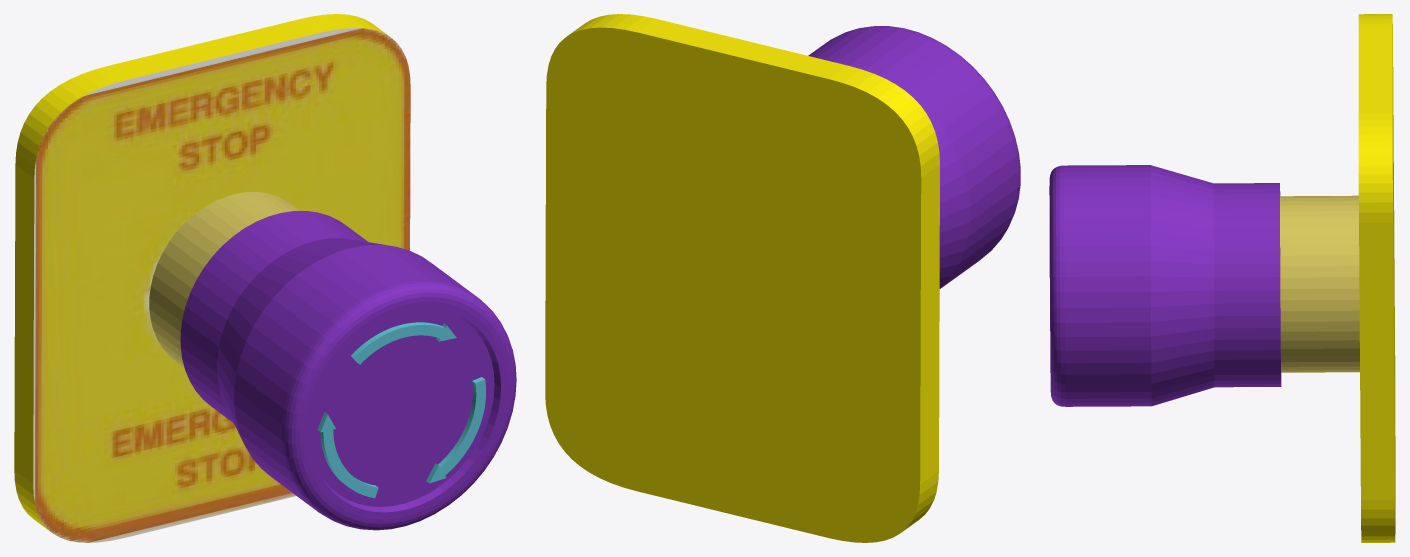
File: button.glb
The picture shows the model from 3 angles, left to right: view 1: azimuth 30°, elevation 25°; view 2: azimuth 150°, elevation 25°; view 3: azimuth 270°, elevation 25°; orthographic projection. The views are drawn at different scales.
Visible parts, largest first — view 1: emergency_button; view 2: emergency_button; view 3: emergency_button.
Part boxes in pixels (bbox=[...]): emergency_button: bbox=[14, 14, 516, 542]; emergency_button: bbox=[545, 14, 1020, 542]; emergency_button: bbox=[1049, 14, 1395, 542].
Size of the model in its own units: 12.92 by 15.07 by 11.4.
5 materials, 1 textured.
